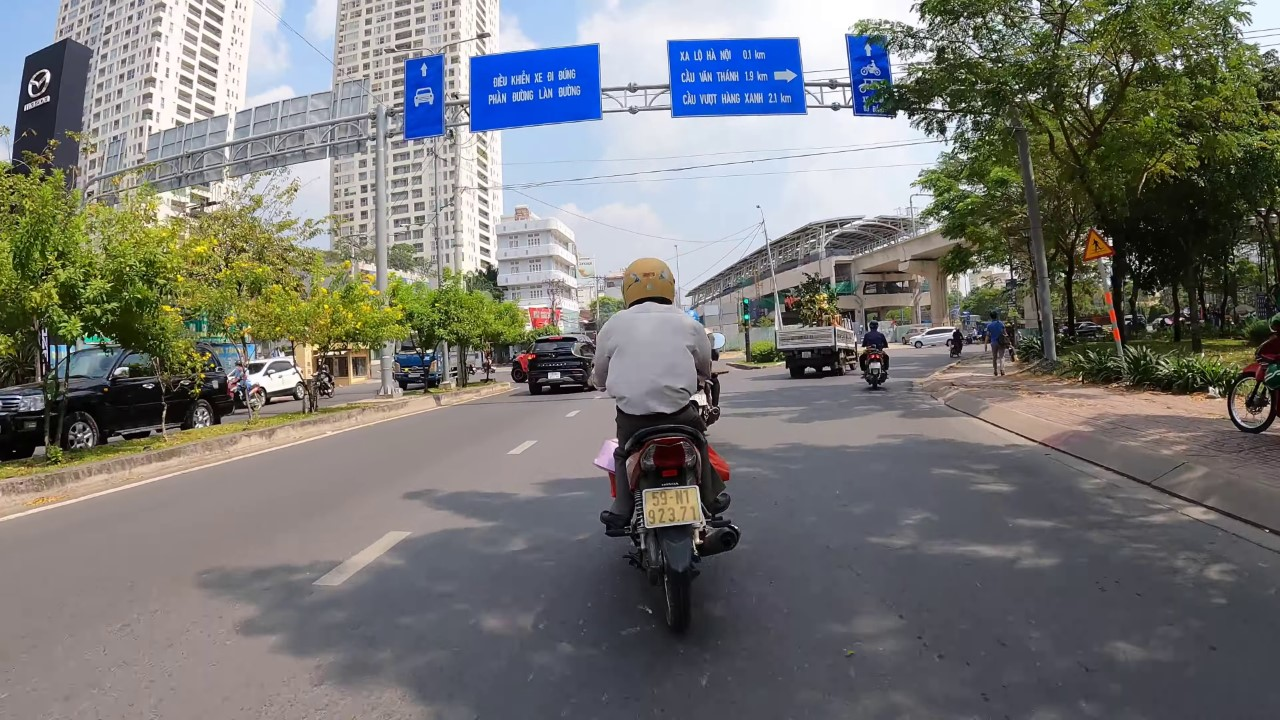can_than_nguoi_qua_duong: (1082, 224, 1118, 264)
